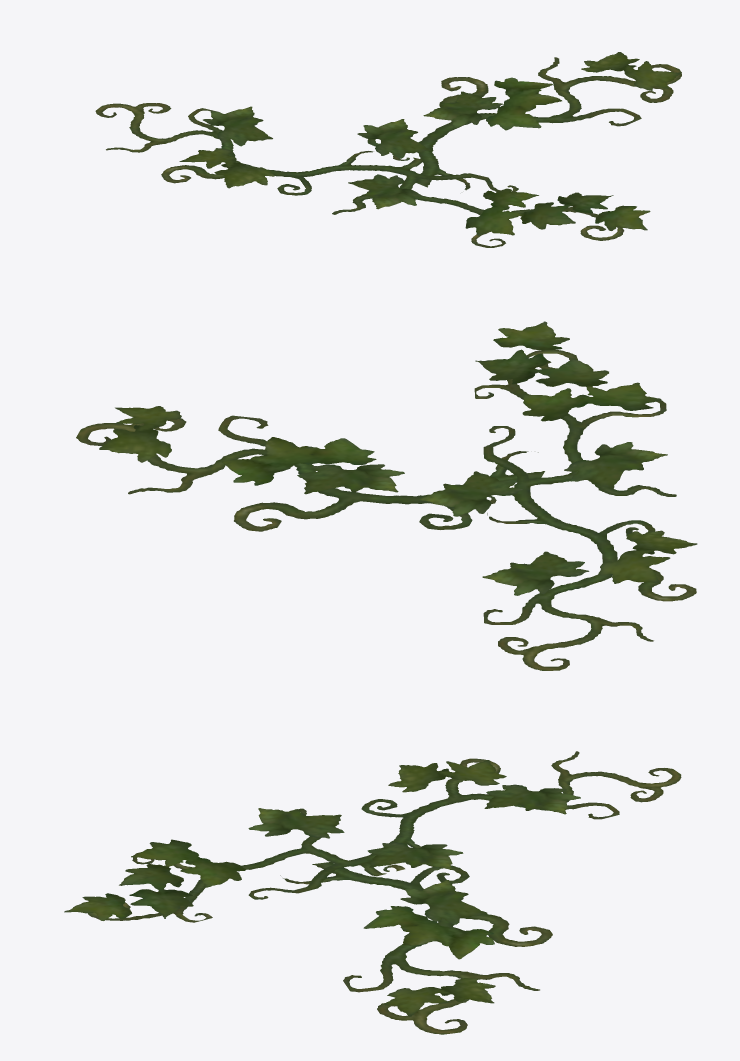
File: vine_B.fbx
3 views of the same model, one above another, from view 1: azimuth 30°, elevation 25°; view 2: azimuth 150°, elevation 25°; view 3: azimuth 270°, elevation 25° (orthographic). The views are drawn at different scales.
Parts seen in each view (by area): view 1: vine_B; view 2: vine_B; view 3: vine_B.
Part boxes in pixels (x1,y1,x2,y2): vine_B: [95, 52, 681, 247]; vine_B: [76, 321, 697, 670]; vine_B: [64, 751, 681, 1034].
Size of the model in its own units: 5.52 by 0.1291 by 4.95.
